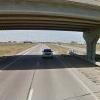Bridge: (4, 0, 96, 45)
